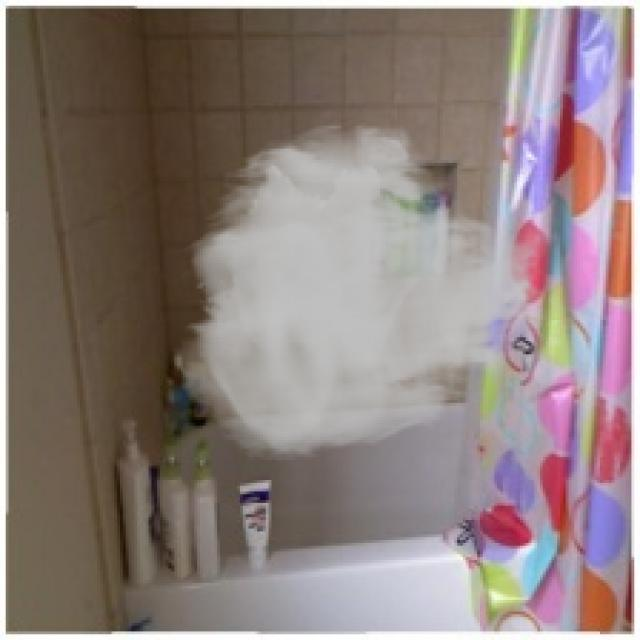smoke: (171, 120, 560, 463)
